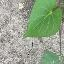Morning glory: (21, 0, 64, 64)
